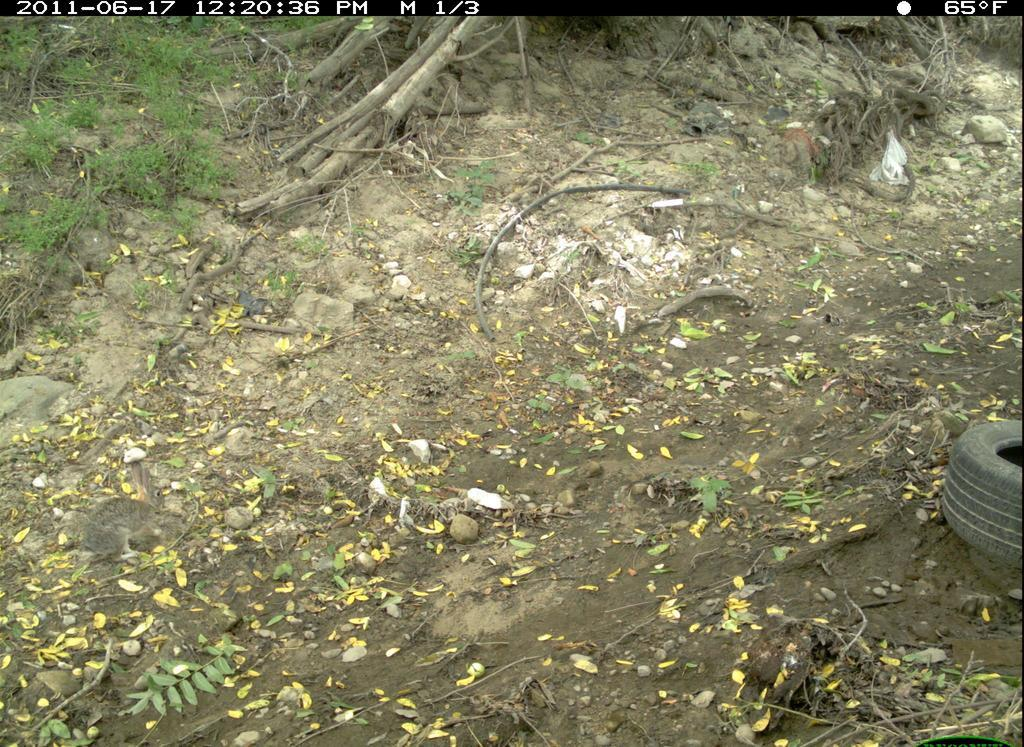rabbit: (45, 445, 193, 587)
